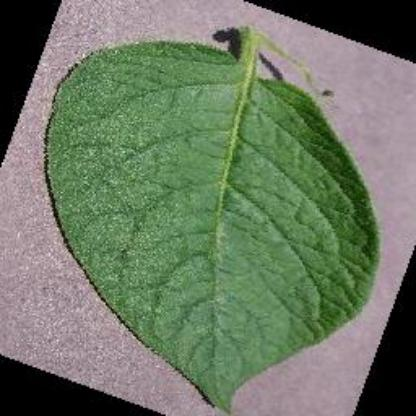Healthy-plant: (41, 18, 383, 413)
